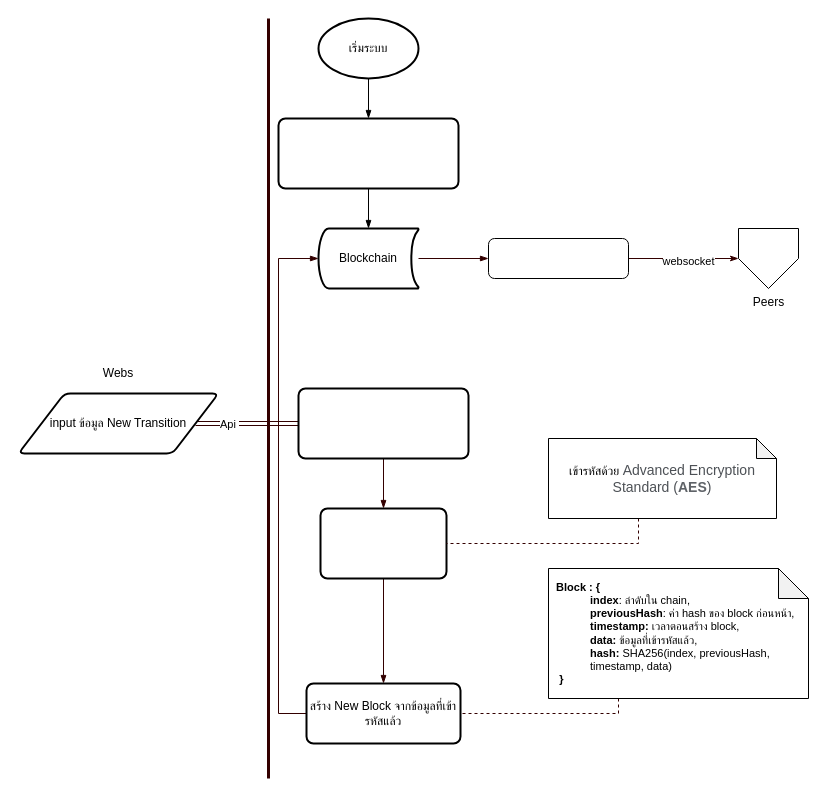
The diagram is 826 pixels wide and 798 high, and some of its shapes have lost their labels. The centre of each missing label's shape, as x and y in pixels:
Encryption ข้อมูล: (383,543)
กำหนด block เริ่มต้น index ที่ 0: (368,153)
ระบบรับข้อมูล New Transition: (383,423)
ส่ง Chain ไปยัง Peers: (558,258)
